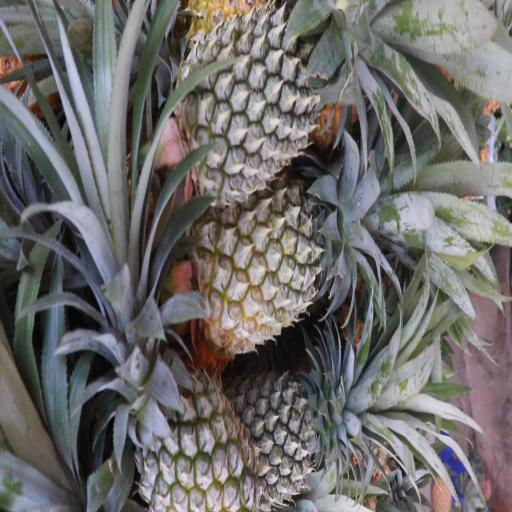------------------------------: (190, 188, 343, 346), (135, 376, 252, 512)
